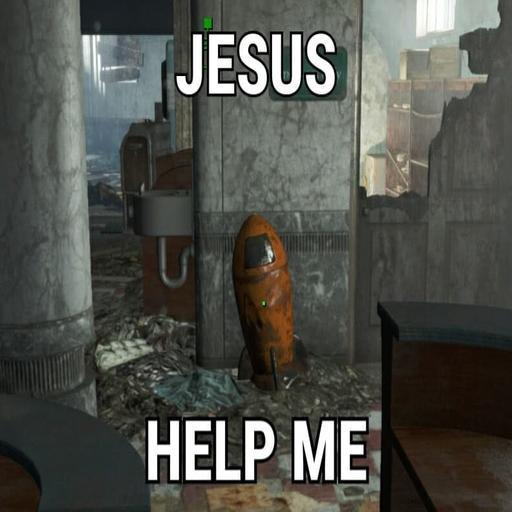Crewmate: (224, 211, 307, 386)
